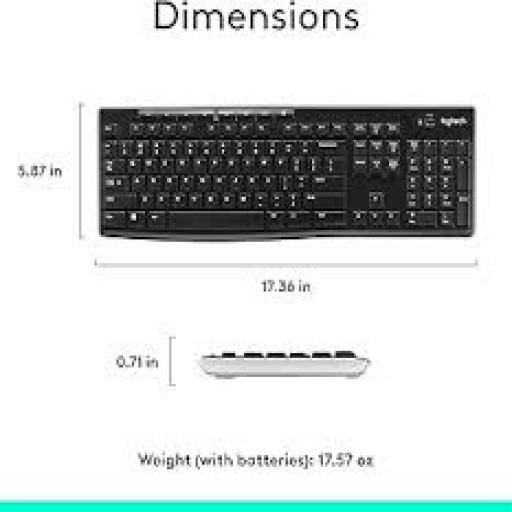keyboard: (103, 107, 472, 239)
